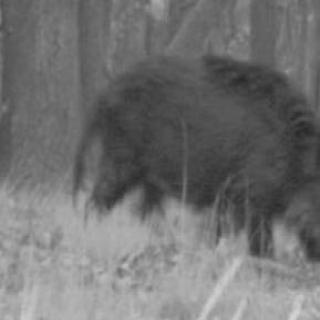Pig: (79, 64, 320, 265)
